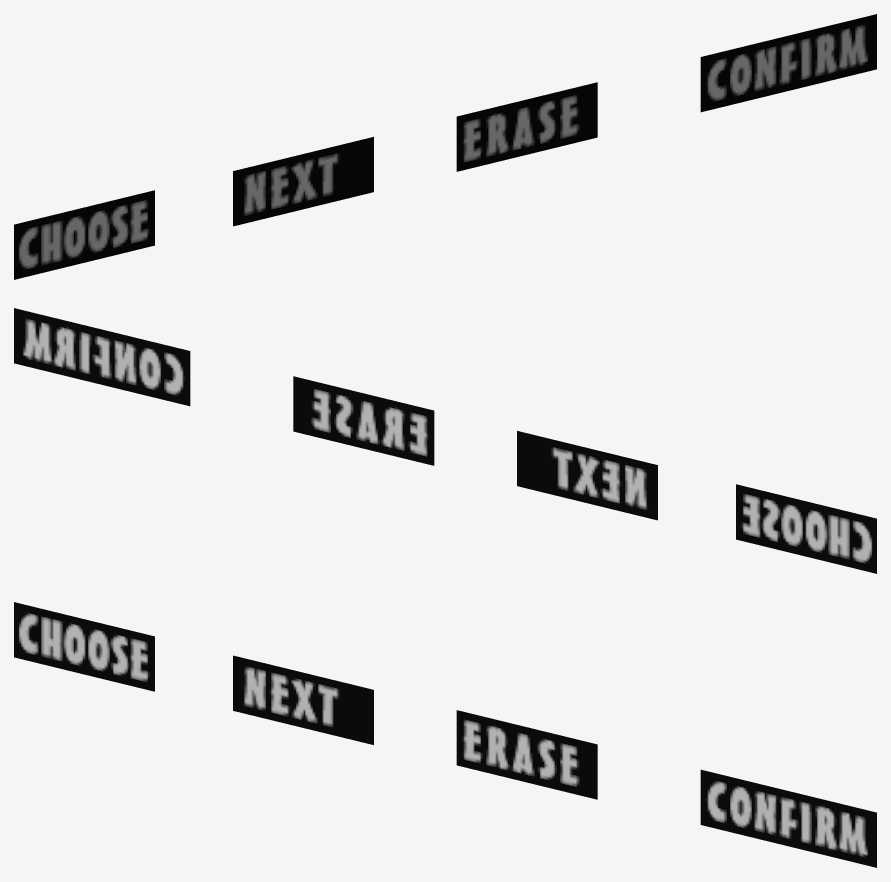
The picture shows the model from 3 angles, top to bottom: view 1: azimuth 30°, elevation 25°; view 2: azimuth 150°, elevation 25°; view 3: azimuth 330°, elevation 25°; orthographic projection.
Visible parts, largest first — view 1: Joint_0_Object_0; view 2: Joint_0_Object_0; view 3: Joint_0_Object_0.
Part boxes in pixels (box(x1,y1,x2,y2)): Joint_0_Object_0: box(14, 14, 876, 279); Joint_0_Object_0: box(14, 308, 876, 573); Joint_0_Object_0: box(14, 602, 876, 867).
Size of the model in its own units: 857 by 52.5 by 0.
Materials: 1 (1 with a texture image).
